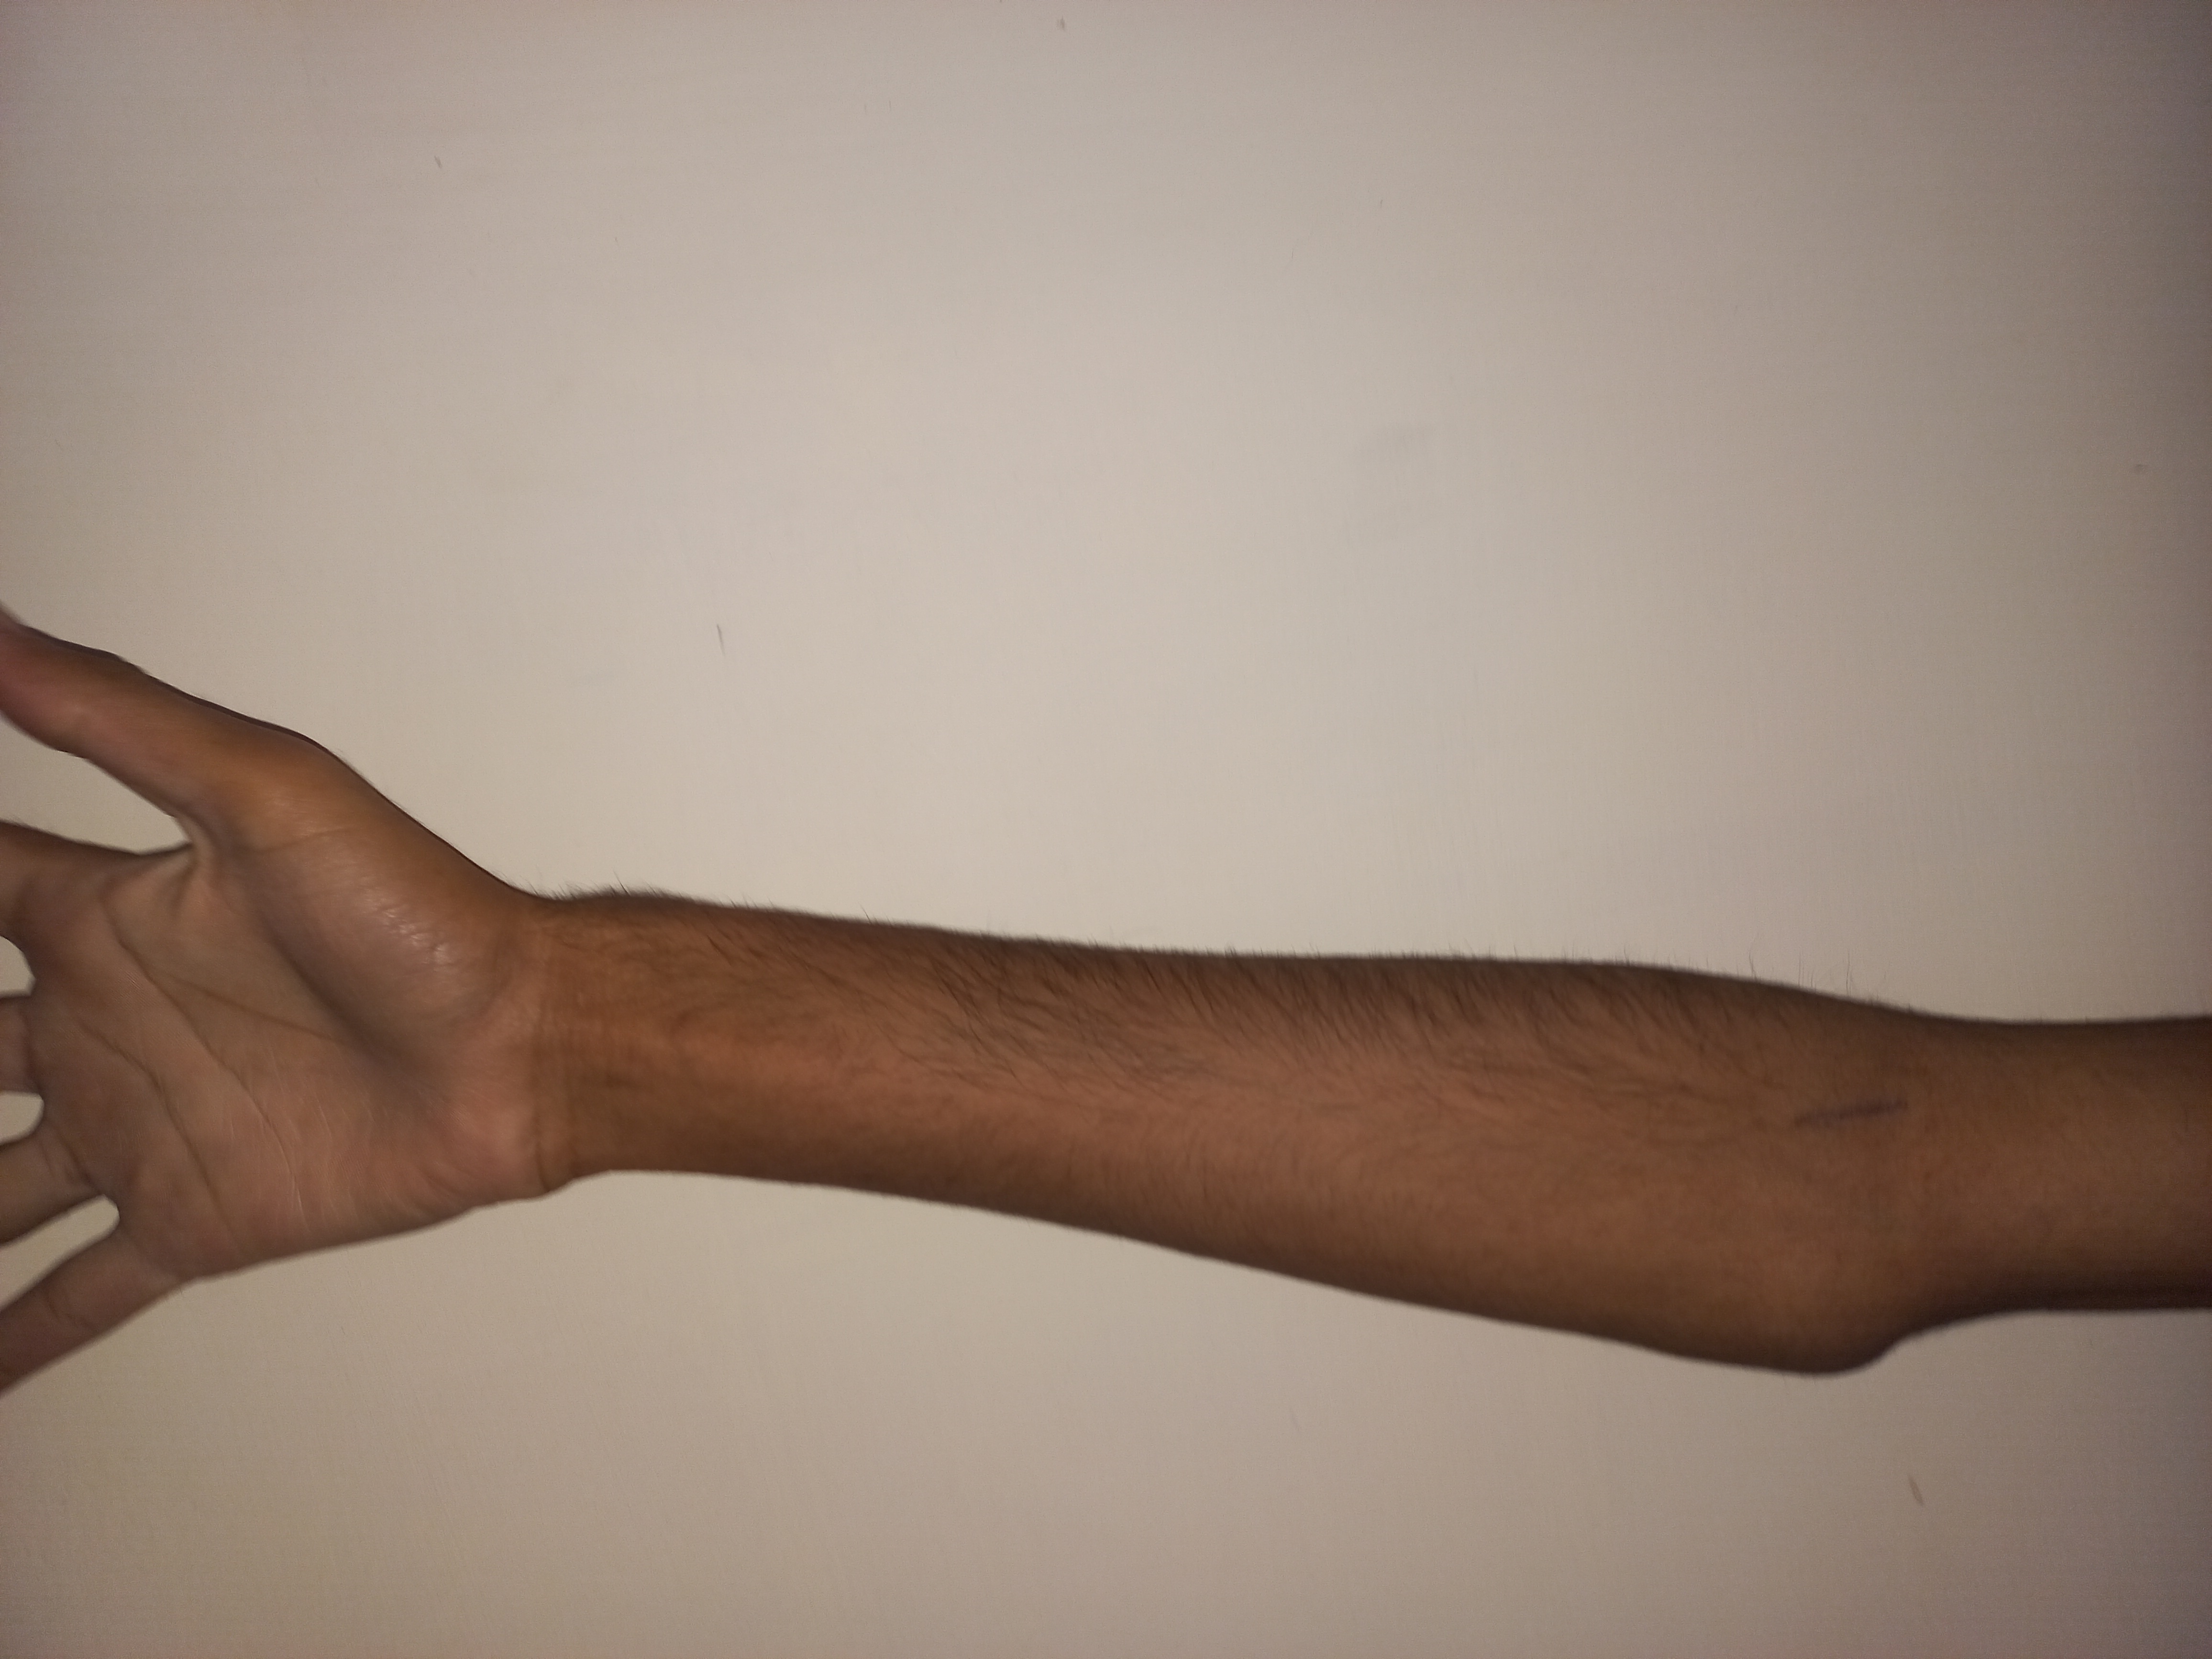vein: (1780, 1091, 1944, 1138)
